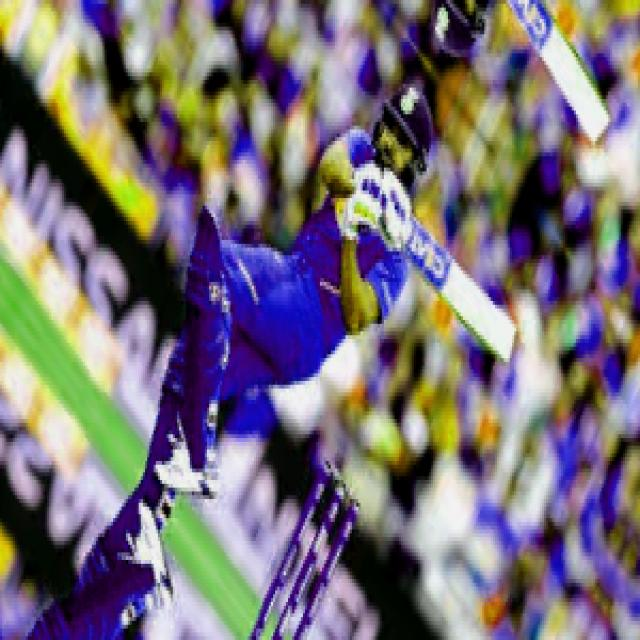toe: (463, 289, 516, 372)
